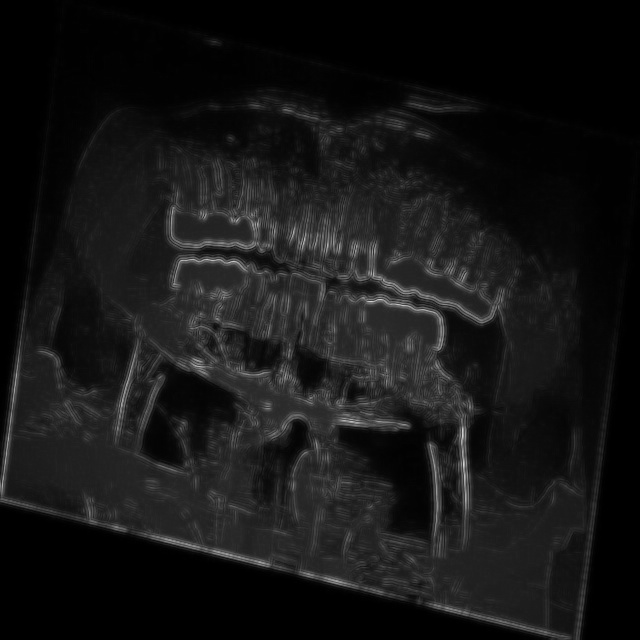Class 0- No endodontic treatment: (356, 317, 447, 412)
Class 1- complete endodontic treatment: (383, 177, 442, 275), (186, 138, 242, 230)
Class 2- incomplete endodontic treatment: (461, 212, 525, 330), (422, 192, 478, 298)
cavity: (253, 150, 385, 290), (242, 260, 338, 368)
